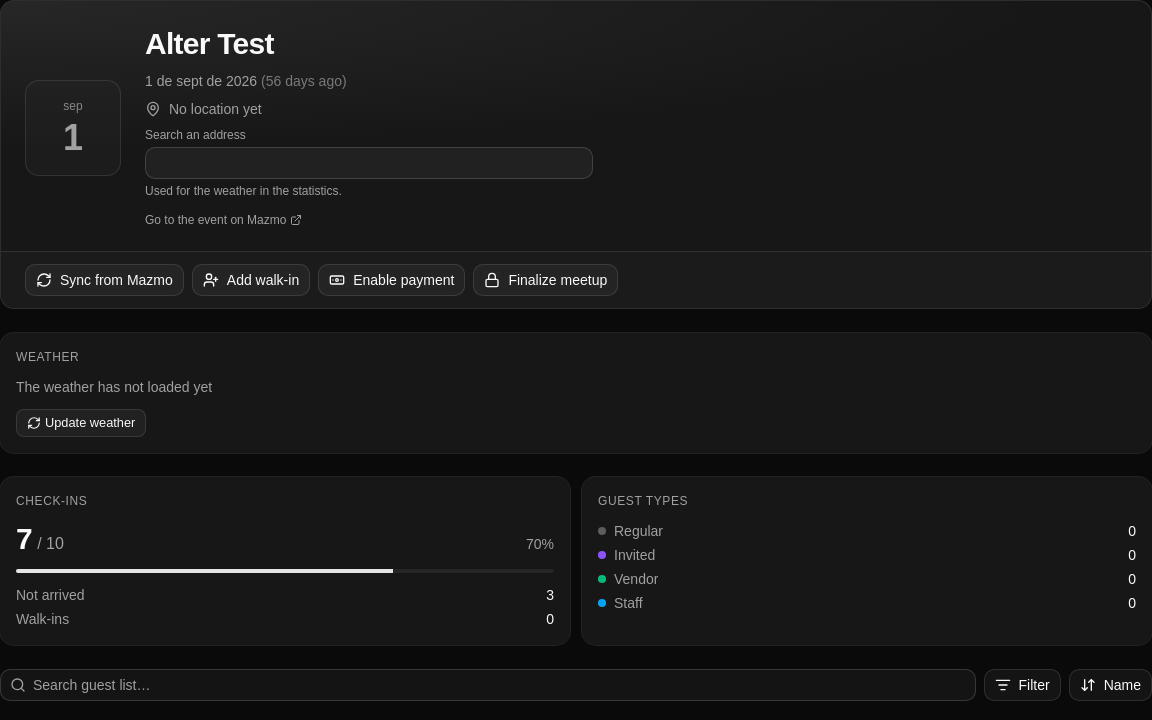
Test: MeetupDetailPage finalized meetup › finalizes the meetup after confirming, with the attendance summary
Step 1. Click the button "Finalize meetup" → (546, 280), box [473, 264, 618, 296]
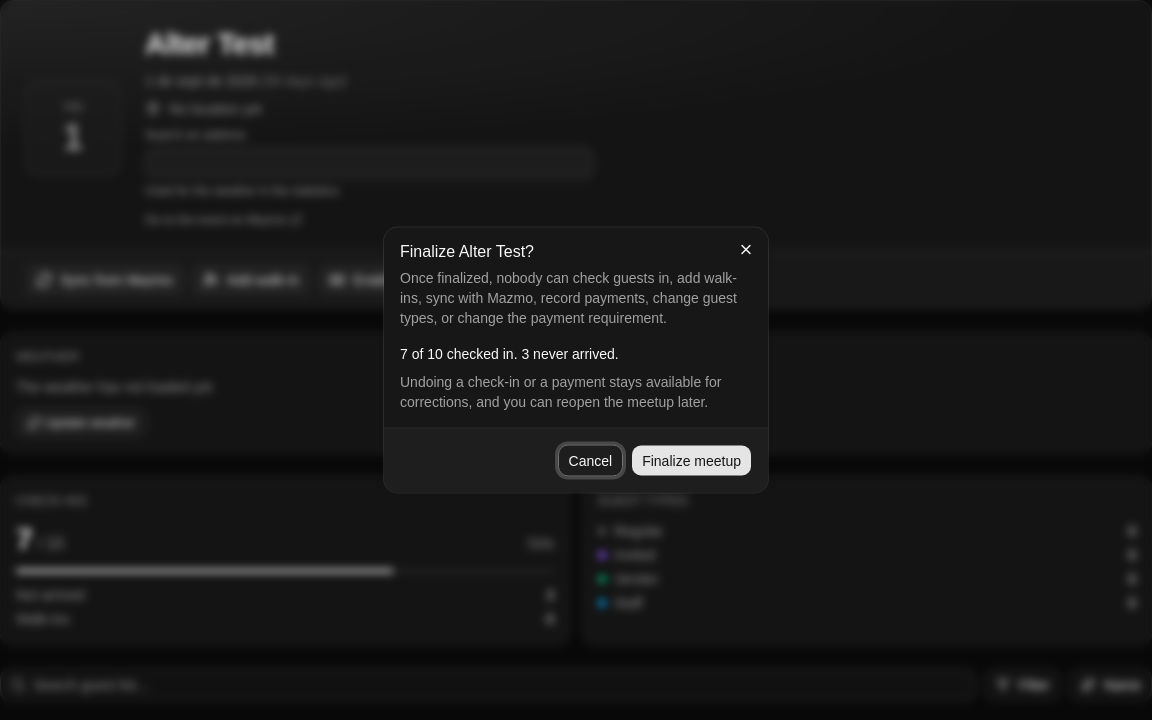
Now the text "7 of 10 checked in. 3 never arrived." is shown, box [400, 346, 619, 362]
Step 2. Click the button "Finalize meetup" → (692, 460), box [631, 444, 752, 476]
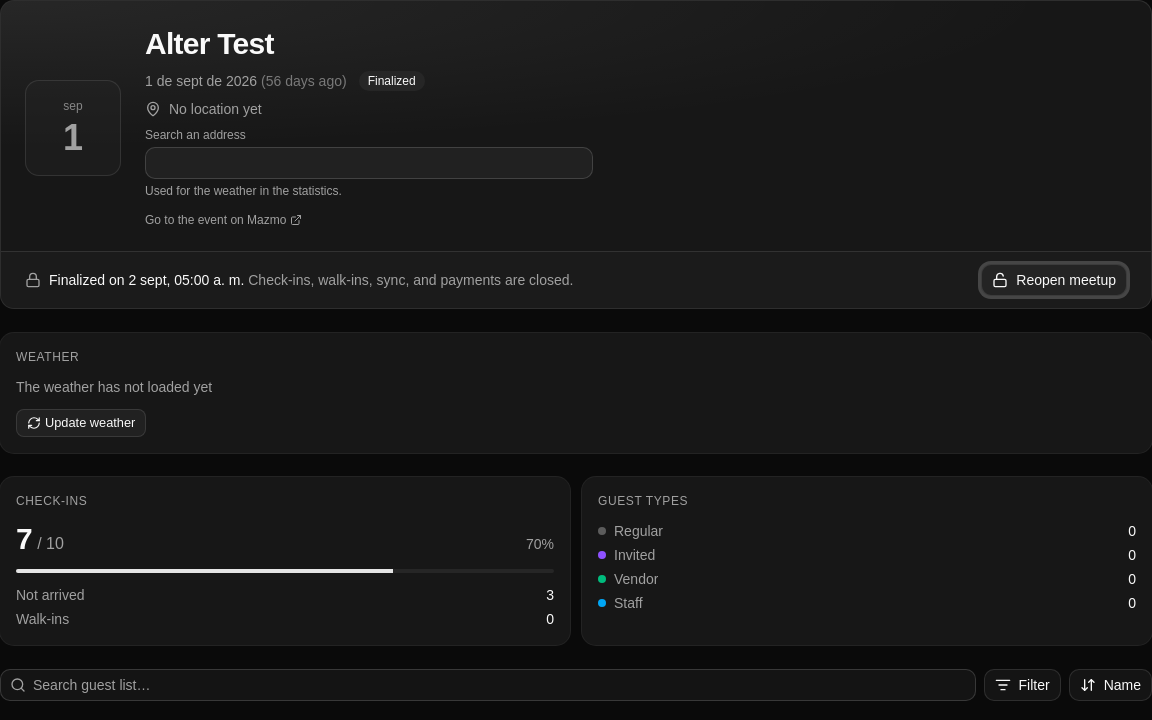
Now the button "Reopen meetup" is shown, box [981, 264, 1127, 296]
Now the text "Finalized on 2 sept, 05:00 a. m." is shown, box [49, 272, 244, 288]
